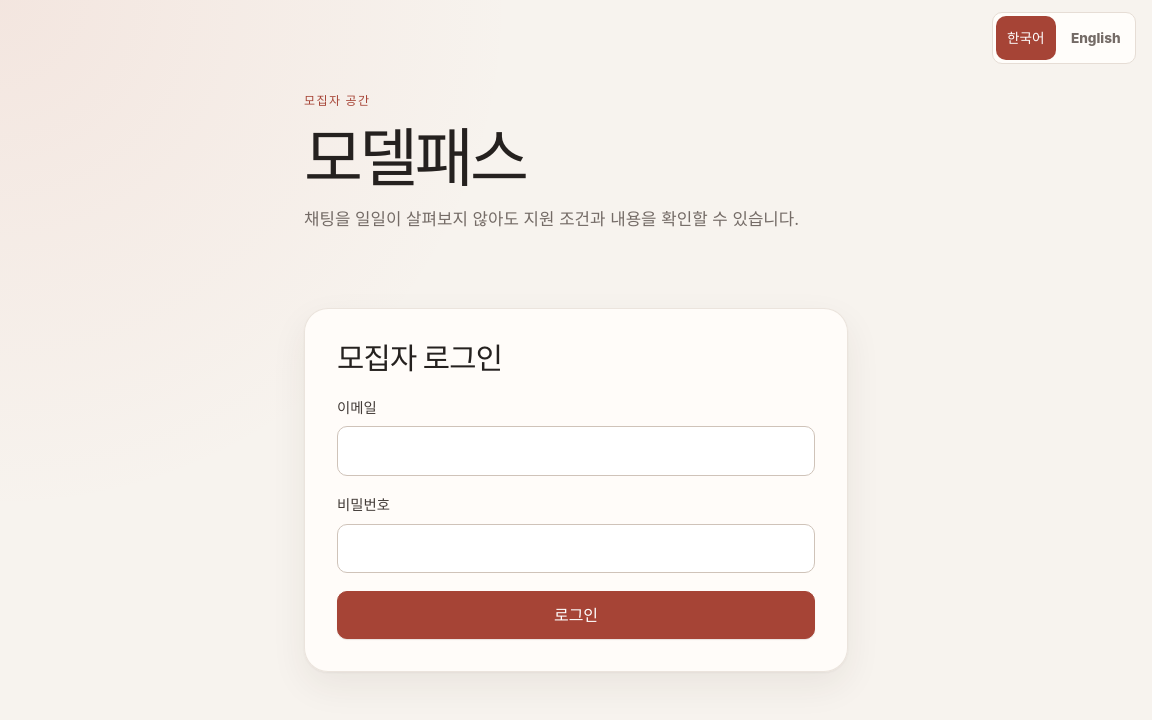
Test: switches recruiter sign-in copy without discarding typed credentials
The image size is (1152, 720).
Type "recruiter@example.com" into the field labelled "이메일" at {"x": 576, "y": 451}, box [337,426,815,476]
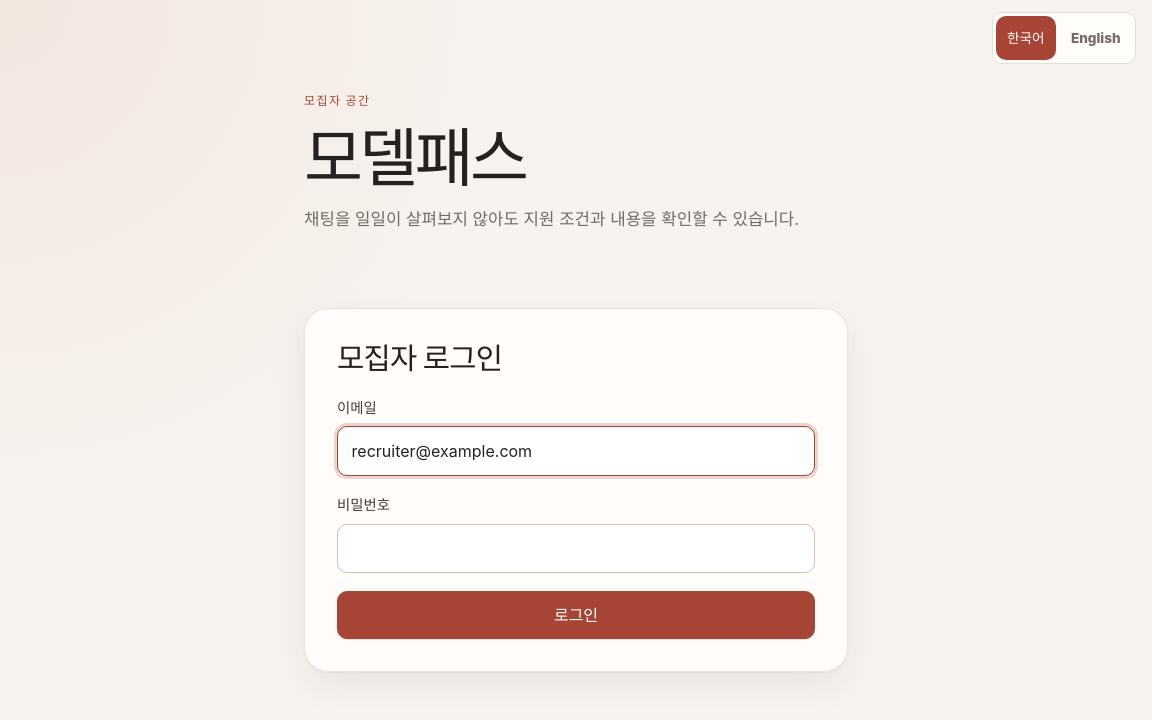
Click the button "English" at {"x": 1096, "y": 38}, box [1060,16,1132,60]
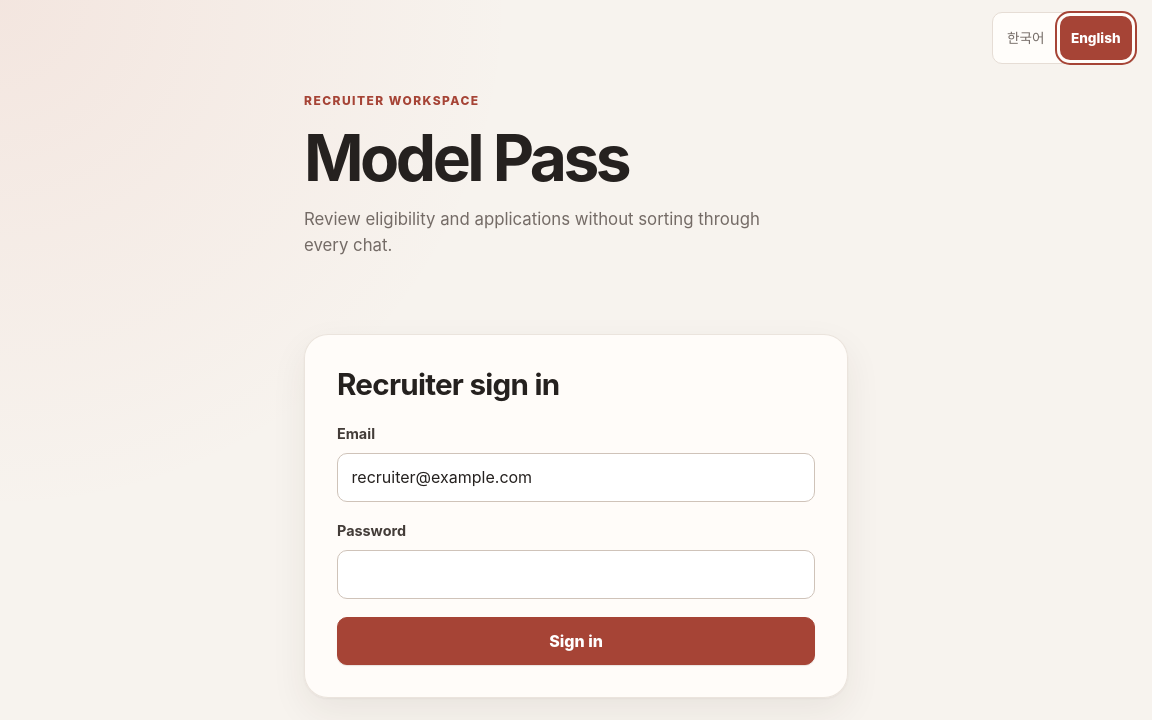
Expected: the heading "Recruiter sign in" is shown, [337,366,559,402]
